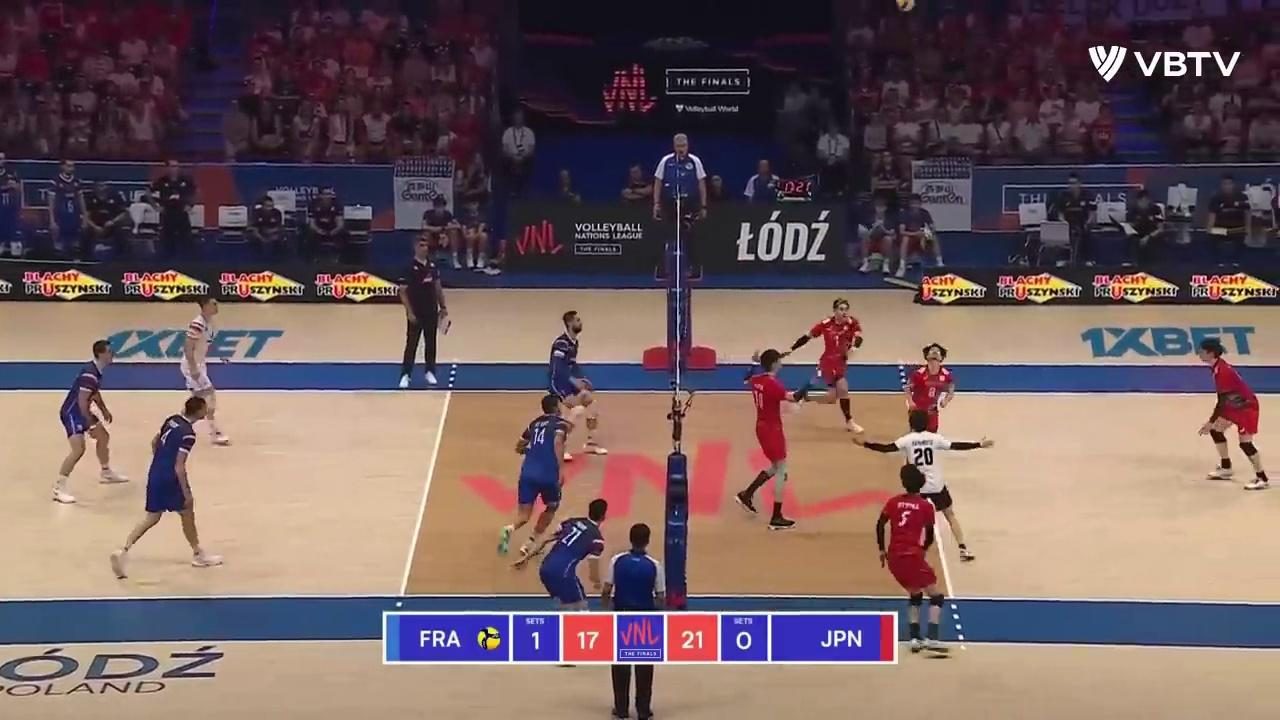ball: (898, 0, 916, 11)
